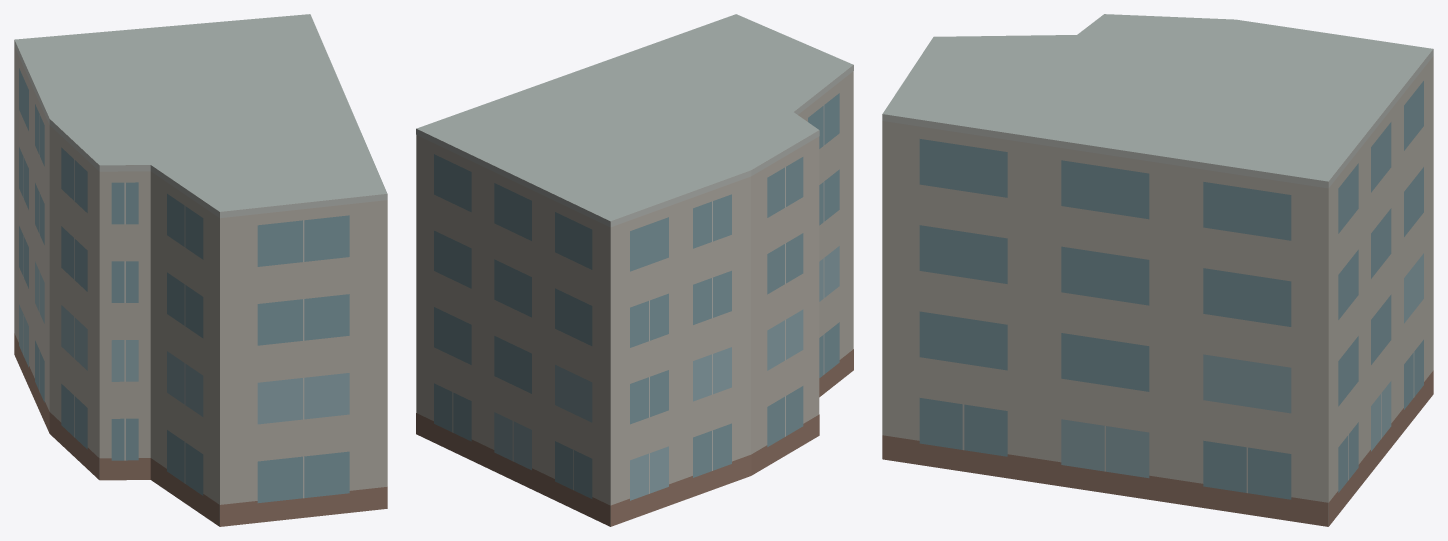
File: survey-upis-32652383.glb
3 views of the same model, side by side, from view 1: azimuth 30°, elevation 25°; view 2: azimuth 150°, elevation 25°; view 3: azimuth 270°, elevation 25° (orthographic). The views are drawn at different scales.
Visible parts, largest first — view 1: survey-upis-32652383.tmp; view 2: survey-upis-32652383.tmp; view 3: survey-upis-32652383.tmp.
Boxes of the visible parts, x1,y1,x2,y2 form: survey-upis-32652383.tmp: (14,14,387,526); survey-upis-32652383.tmp: (416,14,853,526); survey-upis-32652383.tmp: (882,14,1433,526).
Bounding box in the file's own units: 12.71 × 12.2 × 17.66.
